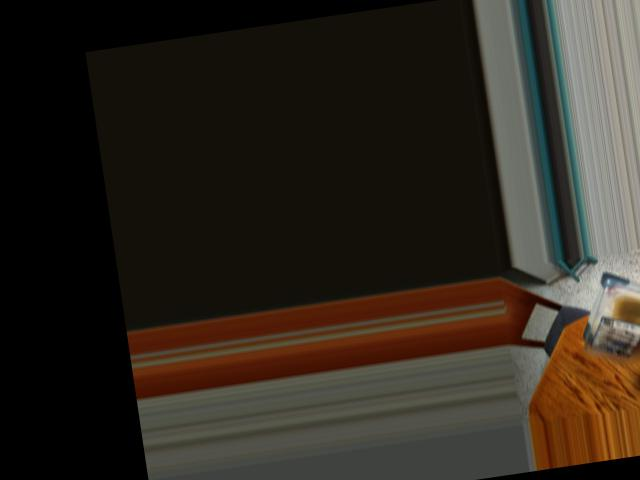cheese: (579, 280, 640, 363)
